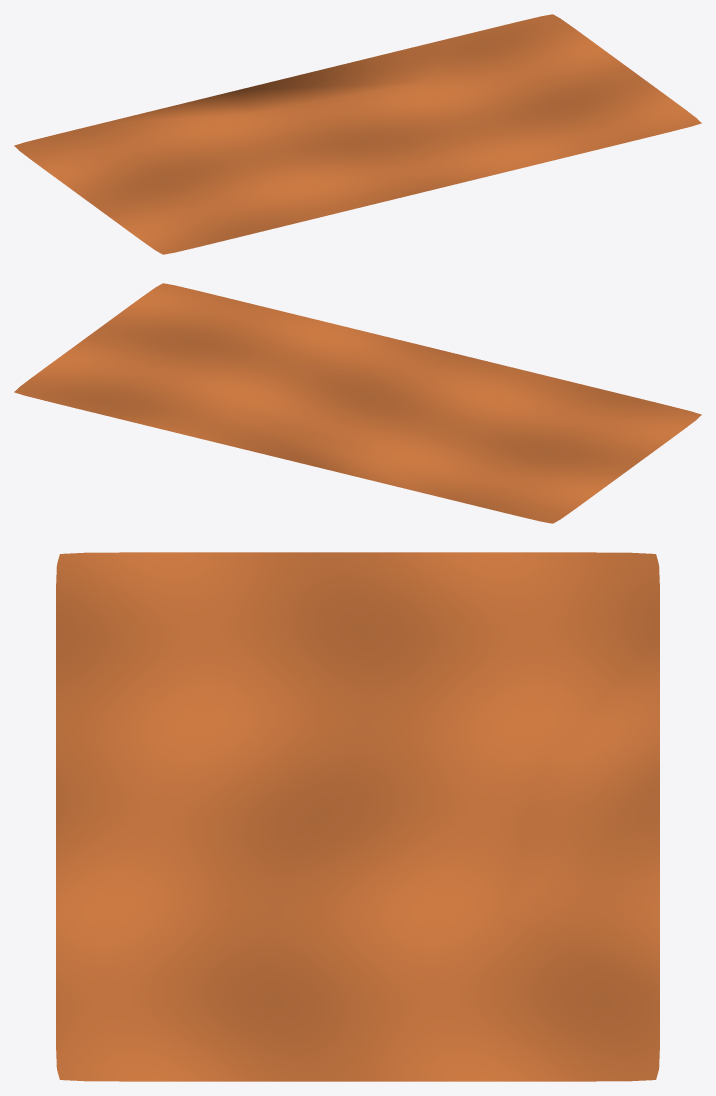
The model's file is lava_crack.glb.
The picture shows the model from 3 angles, top to bottom: view 1: azimuth 30°, elevation 25°; view 2: azimuth 150°, elevation 25°; view 3: azimuth 270°, elevation 25°; orthographic projection. The views are drawn at different scales.
Visible parts, largest first — view 1: lod0; view 2: lod0; view 3: lod0.
Part boxes in pixels (left/top/right/bottom): lod0: left=14, top=14, right=701, bottom=254; lod0: left=14, top=283, right=701, bottom=523; lod0: left=56, top=552, right=659, bottom=1081.
Bounding box in the file's own units: 1.74 × 2.08e-07 × 0.8386.
Materials: 1 (1 with a texture image).
